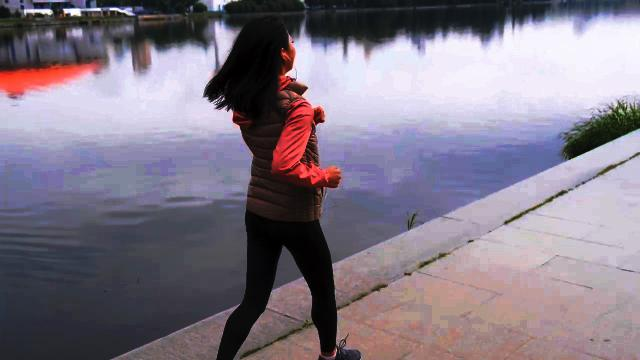berlari: (207, 14, 357, 360)
